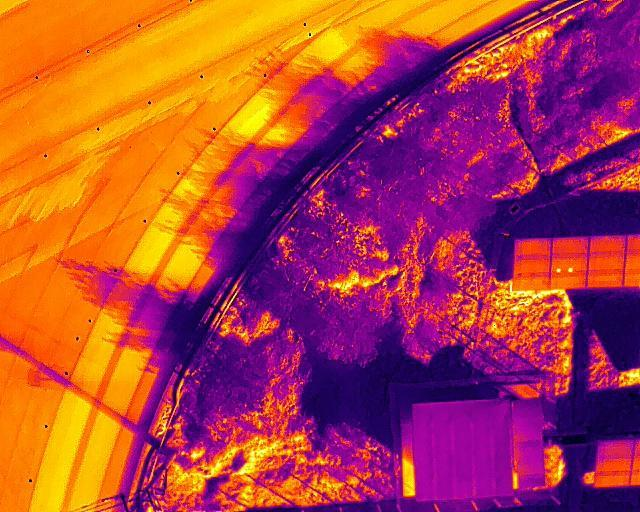Cell-Multi: (551, 257, 589, 273)
No-Anomaly: (589, 252, 625, 271), (551, 238, 589, 256), (515, 240, 551, 258), (596, 441, 634, 458), (514, 257, 550, 274), (513, 275, 550, 291), (588, 237, 626, 252), (595, 472, 632, 487), (588, 272, 624, 287), (550, 273, 587, 287), (596, 458, 633, 472)
